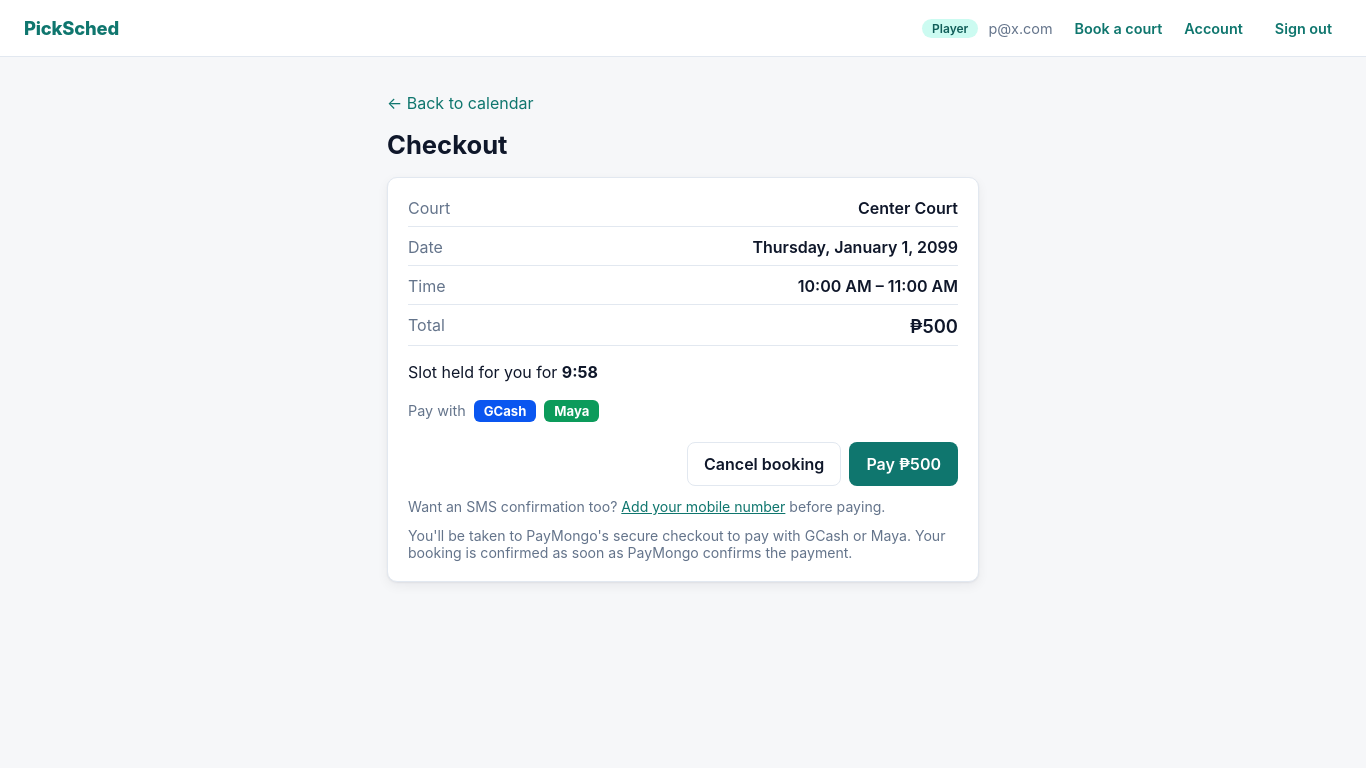
Test: checkout › explains when the hold expired before the final click
Click the button "Pay ₱500": (904, 464) [849,442,958,486]
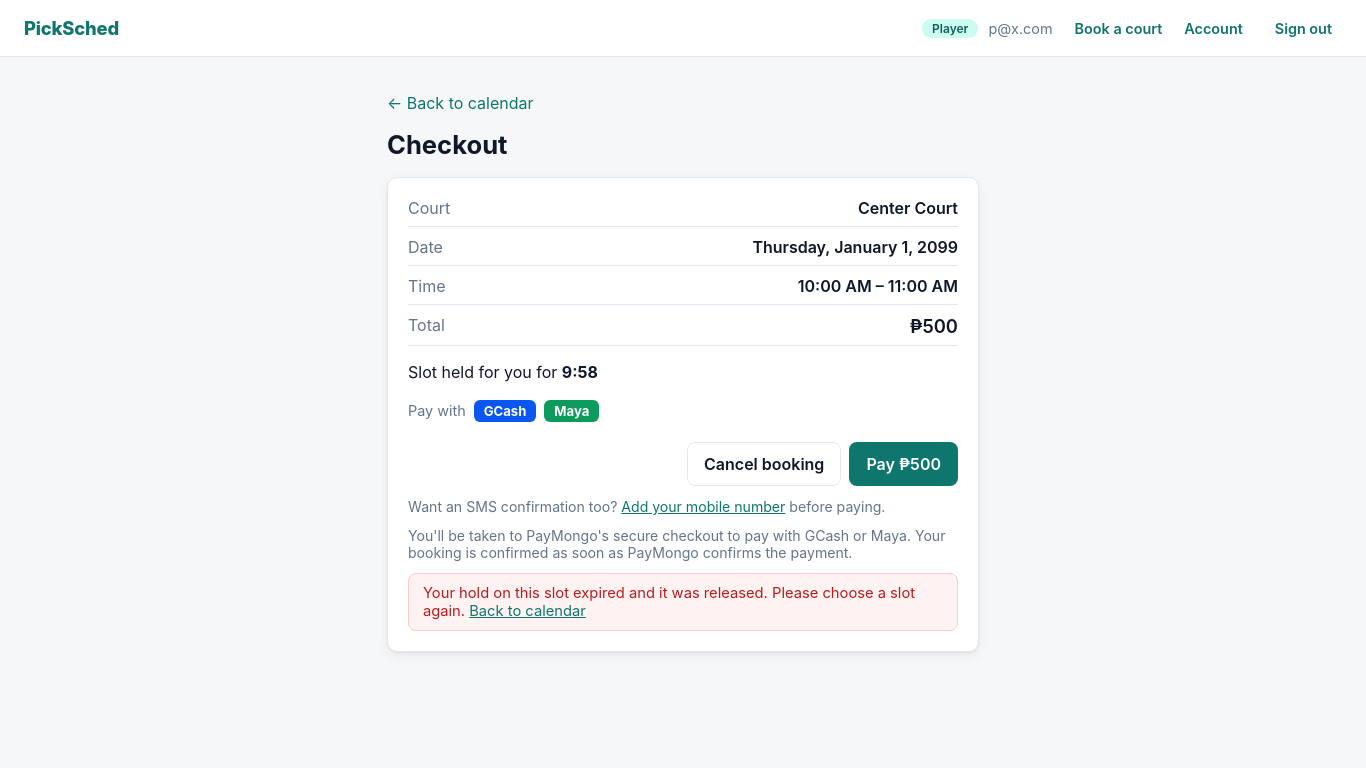
Expected: the message shows "hold on this slot expired", [423,584,915,620]
Expected: the link "Back to calendar" is shown, [469,602,586,620]
